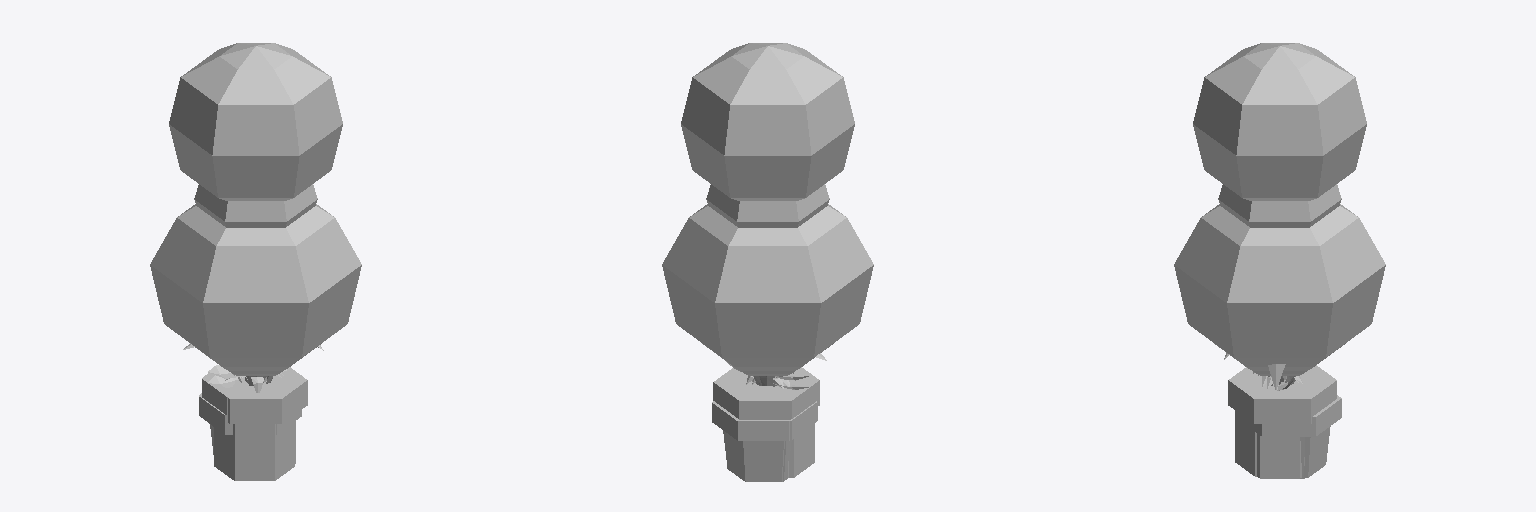
File: Plant 1 Bruv (2).obj
The picture shows the model from 3 angles: view 1: azimuth 30°, elevation 25°; view 2: azimuth 150°, elevation 25°; view 3: azimuth 270°, elevation 25°; orthographic projection.
Parts seen in each view (by area): view 1: Large_Bush, Berrys, Medium_Bush, Small_Bush, Cattails_alt, Round_Flower, Cattails; view 2: Large_Bush, Flower, Medium_Bush, Cattails_alt, Cattails, Berrys, Round_Flower; view 3: Large_Bush, Medium_Bush, Flower, Cattails_alt, Berries_Alt, Small_Bush, Berrys.
Part boxes in pixels (x1,y1,x2,y2): Large_Bush: (150, 43, 361, 423); Berrys: (214, 374, 294, 480); Medium_Bush: (194, 184, 317, 381); Small_Bush: (195, 343, 321, 423); Cattails_alt: (183, 343, 318, 396); Round_Flower: (199, 365, 239, 453); Cattails: (202, 345, 323, 422); Large_Bush: (662, 43, 873, 386); Flower: (712, 361, 812, 481); Medium_Bush: (706, 184, 829, 227); Cattails_alt: (713, 353, 826, 419); Cattails: (715, 369, 817, 418); Berrys: (752, 372, 814, 477); Round_Flower: (740, 376, 817, 481); Large_Bush: (1174, 43, 1385, 423); Medium_Bush: (1218, 184, 1341, 379); Flower: (1264, 376, 1341, 477); Cattails_alt: (1260, 364, 1336, 478); Berries_Alt: (1257, 375, 1302, 478); Small_Bush: (1214, 343, 1345, 405); Berrys: (1235, 372, 1298, 476).
Size of the model in its own units: 2.73 by 6.88 by 3.15.